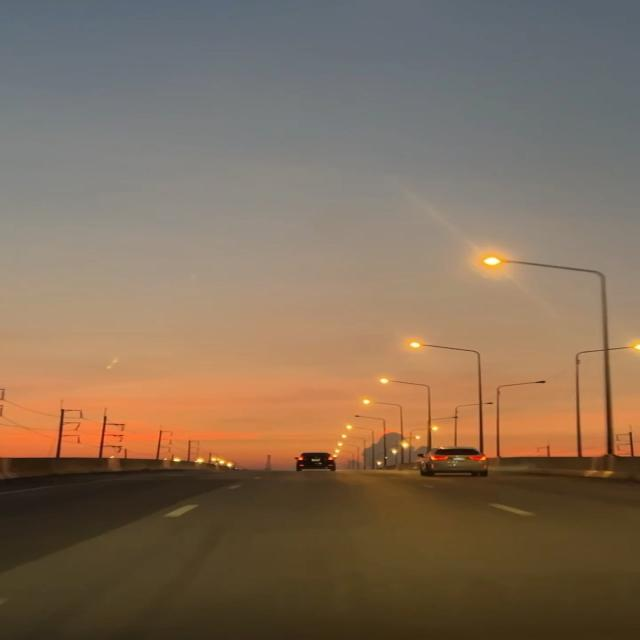Poth-hole: (165, 448, 596, 620)
